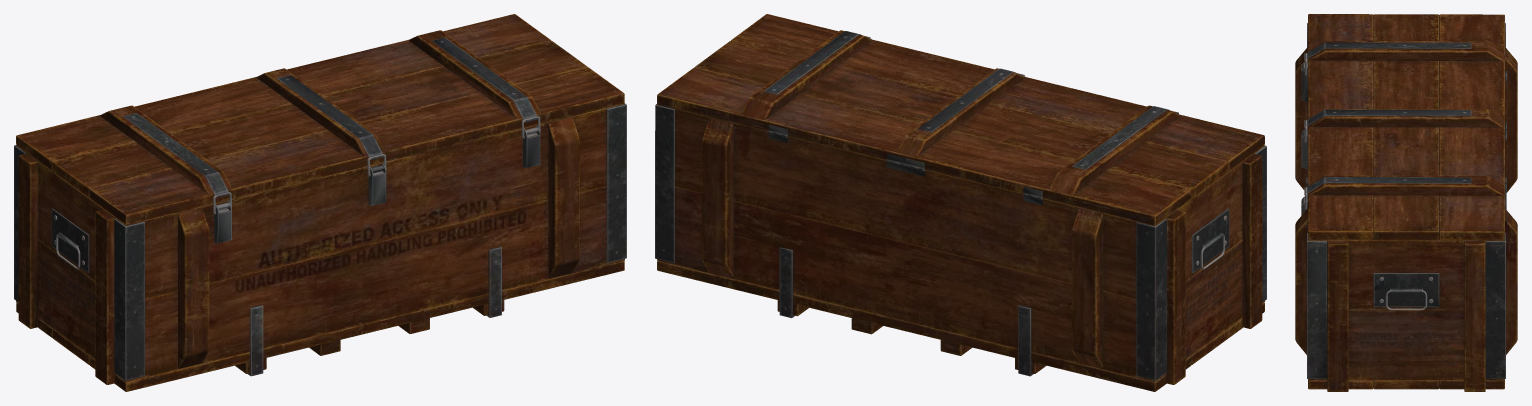
File: wooden_military_crate.glb
The picture shows the model from 3 angles, left to right: view 1: azimuth 30°, elevation 25°; view 2: azimuth 150°, elevation 25°; view 3: azimuth 270°, elevation 25°; orthographic projection. The views are drawn at different scales.
Parts seen in each view (by area): view 1: wooden_military_crate; view 2: wooden_military_crate; view 3: wooden_military_crate.
Part boxes in pixels (x1,y1,x2,y2): wooden_military_crate: (14, 14, 626, 391); wooden_military_crate: (655, 14, 1266, 391); wooden_military_crate: (1295, 14, 1517, 391).
Bounding box in the file's own units: 1.24 × 0.4648 × 0.5198.
1 material, 1 textured.
